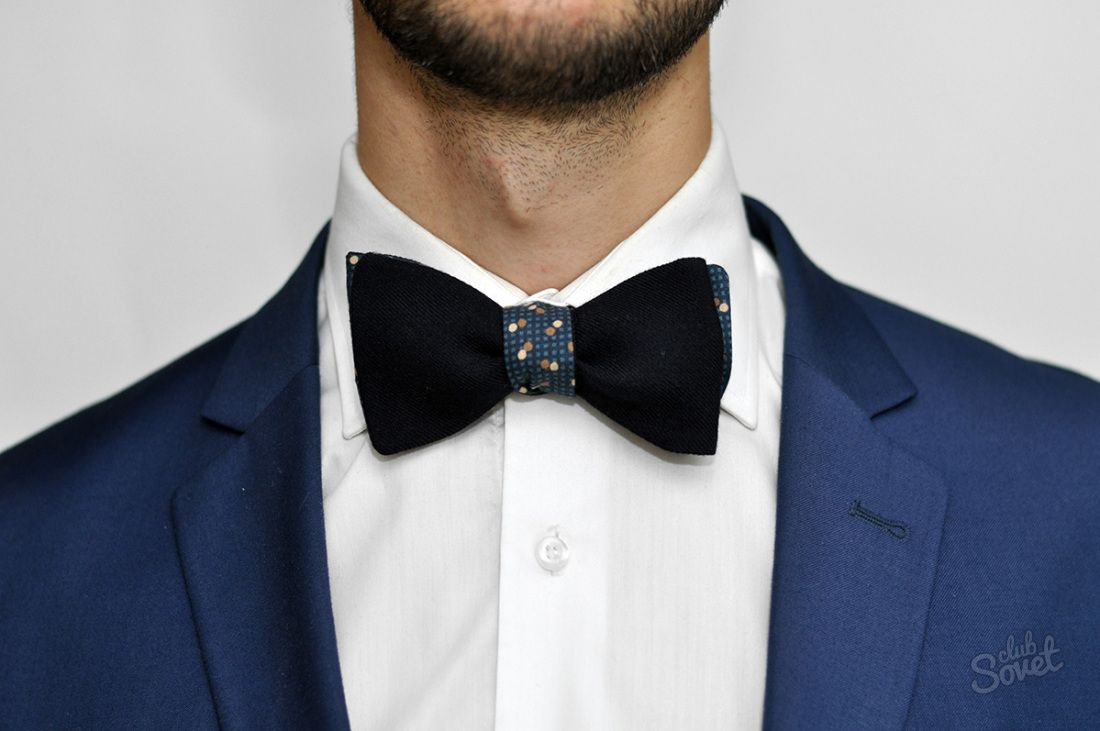bow: (323, 234, 751, 477)
